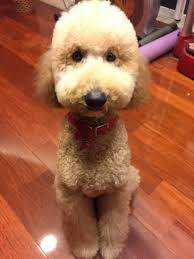dog: (32, 1, 156, 259)
